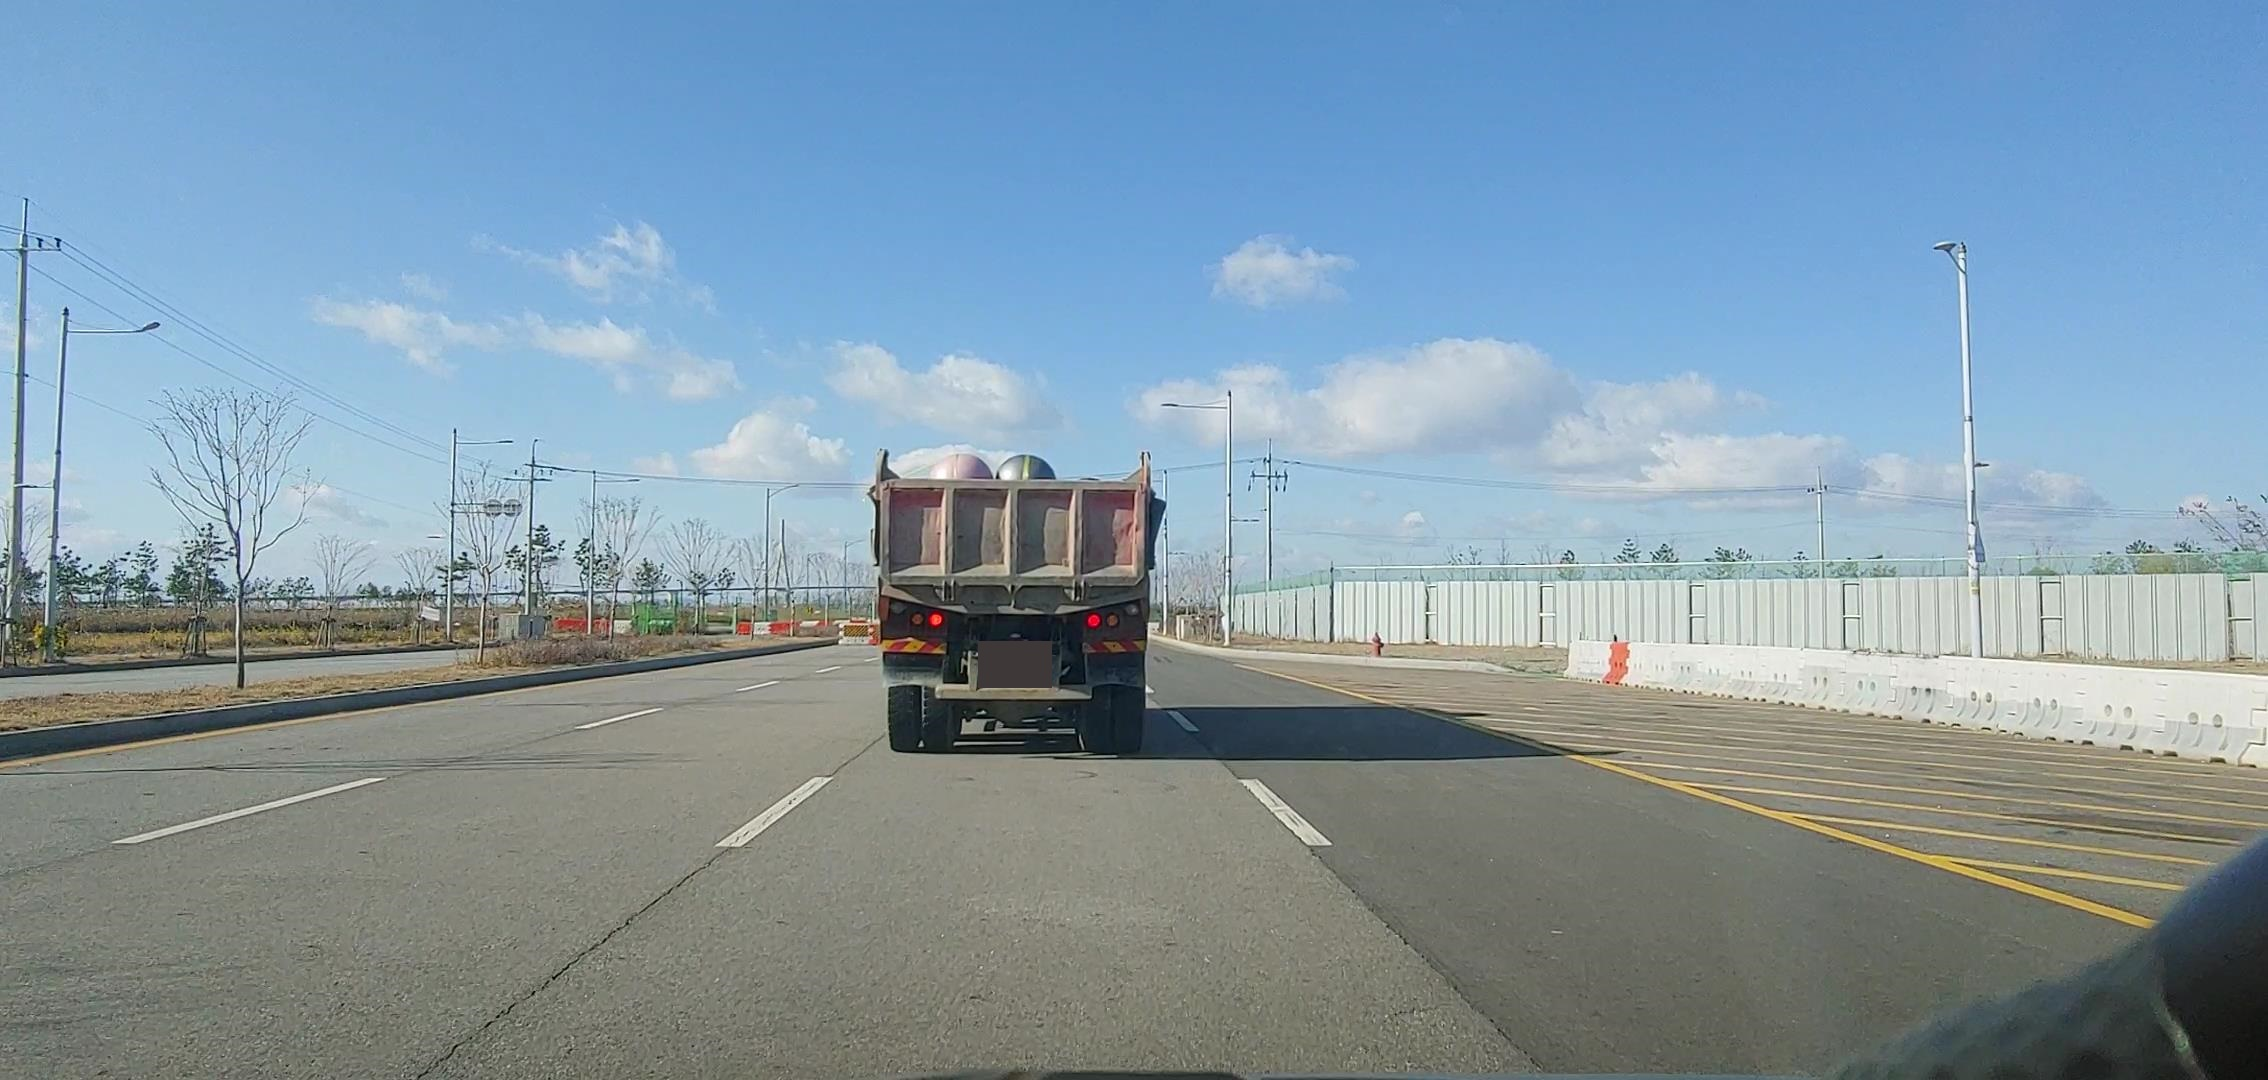불법차량: (866, 448, 1167, 755)
